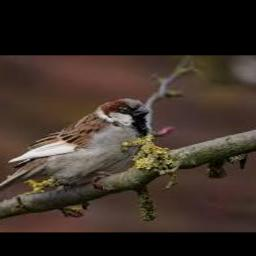Sparrow: (0, 98, 149, 205)
